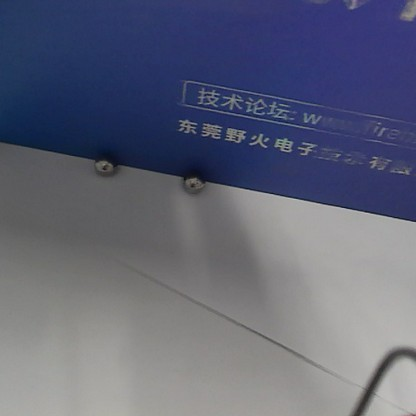ironball: (91, 148, 119, 179), (181, 165, 207, 196)
